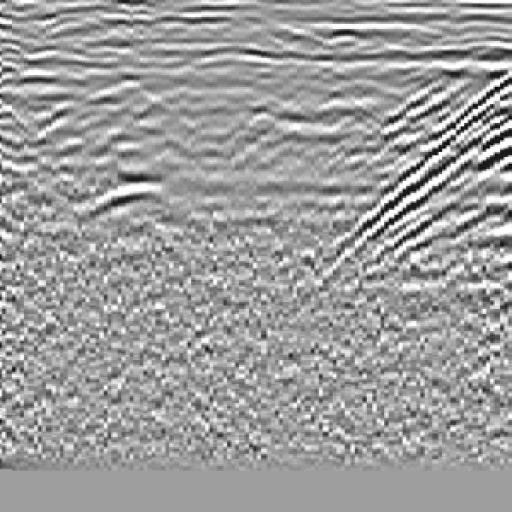metalic: (55, 152, 210, 251)
nonmetalic: (326, 40, 512, 297)
